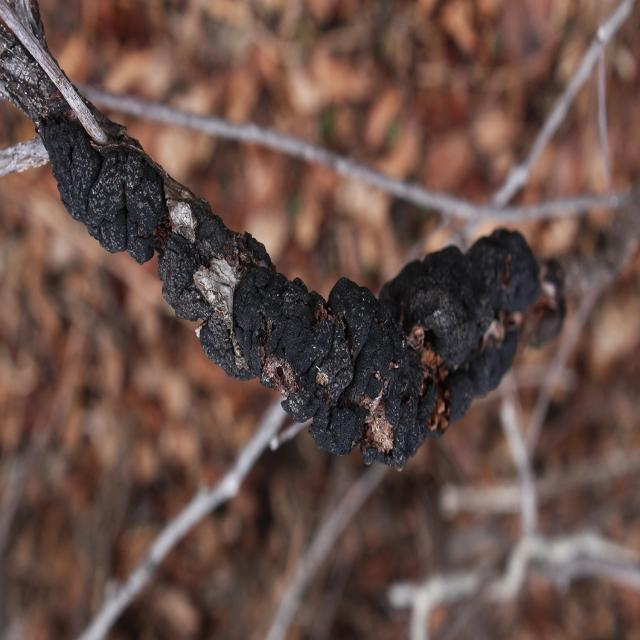Black_knot: (1, 1, 566, 472), (231, 264, 436, 470)
